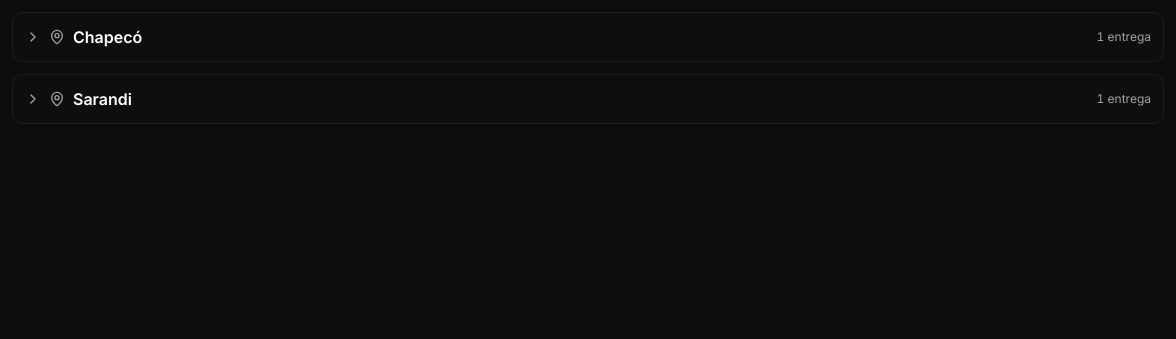
Test: Cidade → tipos de entregáveis › inicia recolhido e expande cada cidade de forma independente
The width and height of the screenshot is (1176, 339).
Check: the text "Reels - Sarandi" is not shown
Click the button "Sarandi 1 entrega" at (102, 99), box [12,74,1164,124]
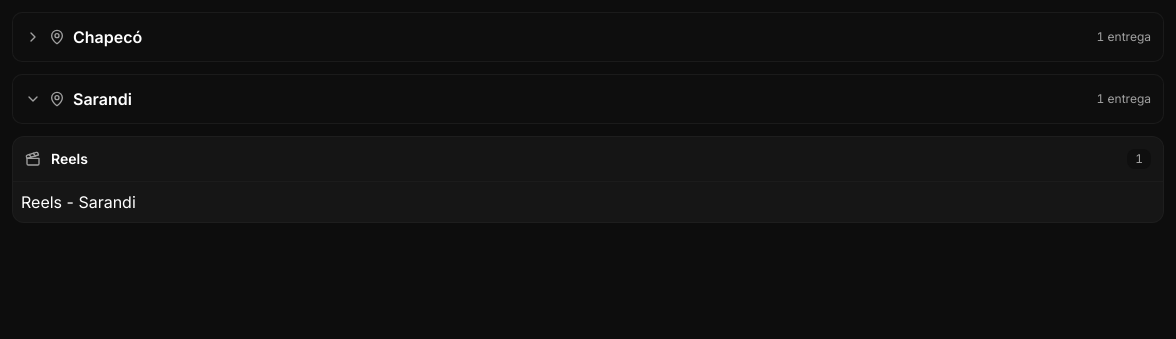
Check: the text "Story - Chapecó" is not shown
Check: the button "Sarandi 1 entrega" is expanded, box [12,74,1164,124]
Check: the text "Reels - Sarandi" is shown, box [21,192,136,212]
Click the button "Chapecó 1 entrega" at (108, 37), box [12,12,1164,62]
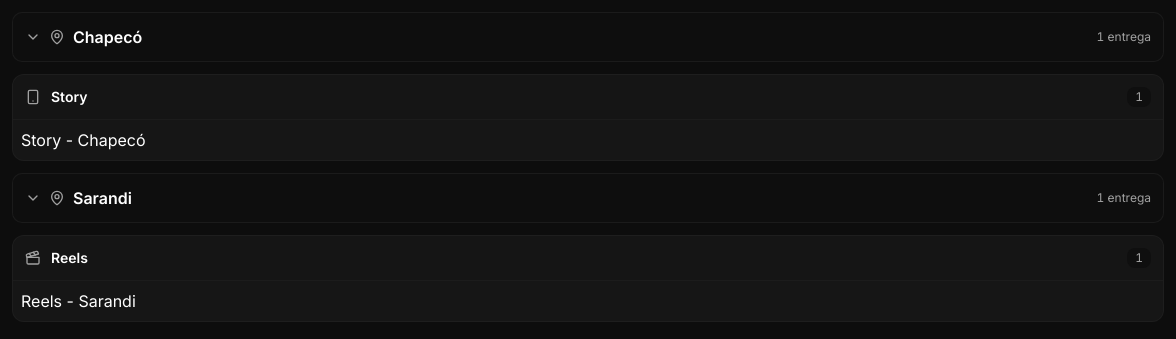
Check: the text "Story - Chapecó" is shown, box [21,130,146,150]
Click the button "Sarandi 1 entrega" at (102, 198), box [12,173,1164,223]
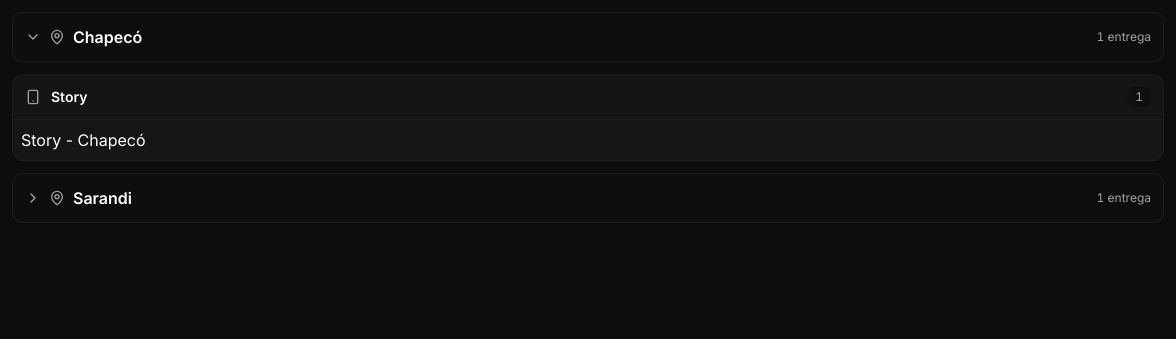
Check: the text "Story - Chapecó" is shown, box [21,130,146,150]
Check: the text "Reels - Sarandi" is gone
